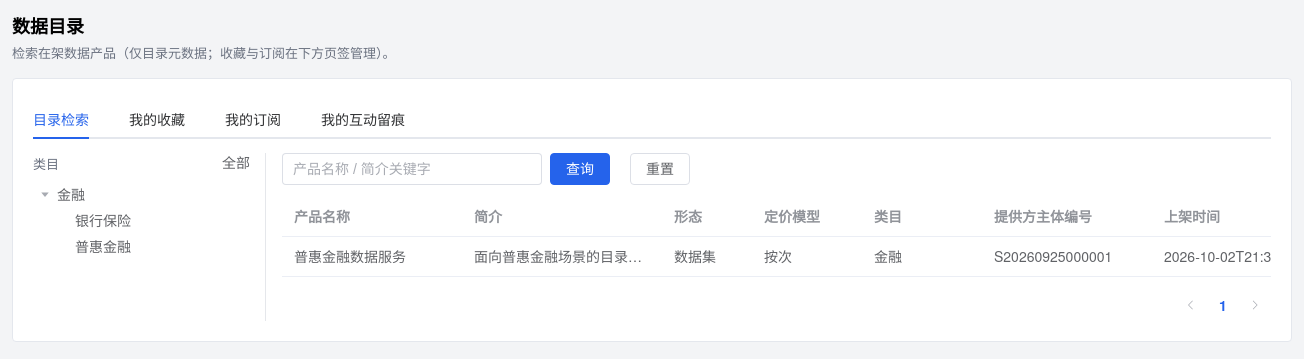
我的收藏 / 我的订阅（T8） › 订阅页签空态：空列表展示统一空态文案（不是报错）
What coordinates should you click on to do the following:
click the tab with id "tab-subscriptions"
I would click on:
 (253, 119)
Its box is left=225, top=109, right=281, bottom=129.
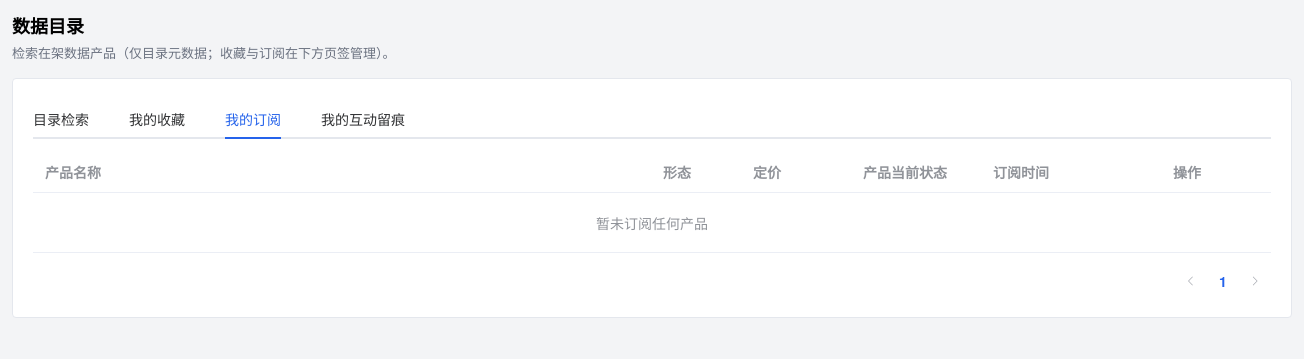
Expected: the text "暂未订阅任何产品" is shown, left=596, top=213, right=708, bottom=233
